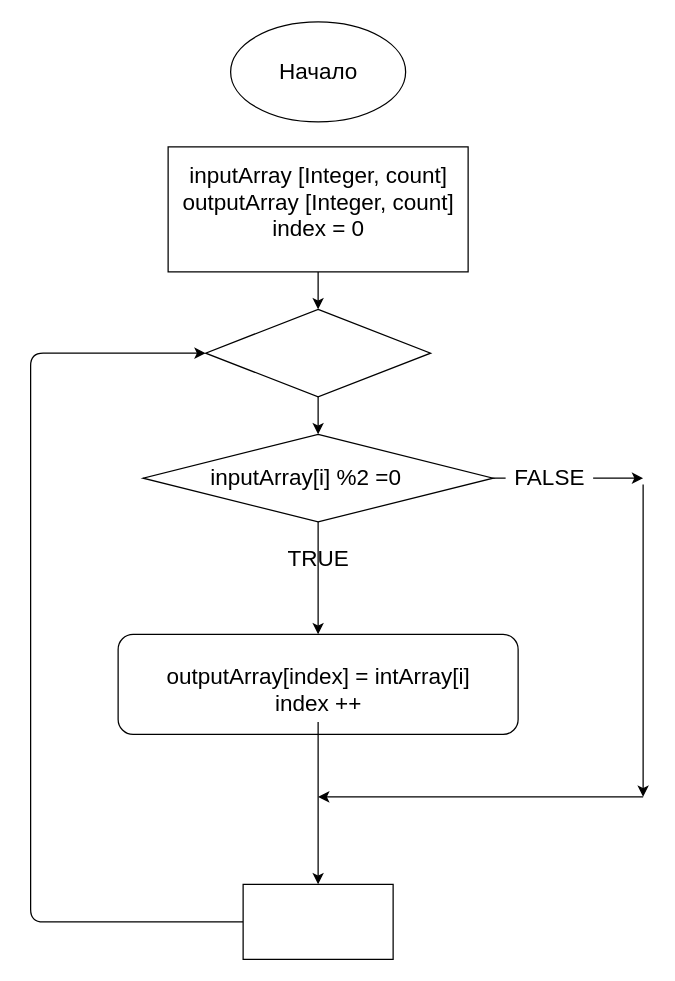
Image size: 675x981. Some labels were removed from this diagram. The shapes that lost their labels are listed below. From the top down, each one's centre as x and y in pixels, then its label:
[317,352]: i<count
[317,921]: i+=1
